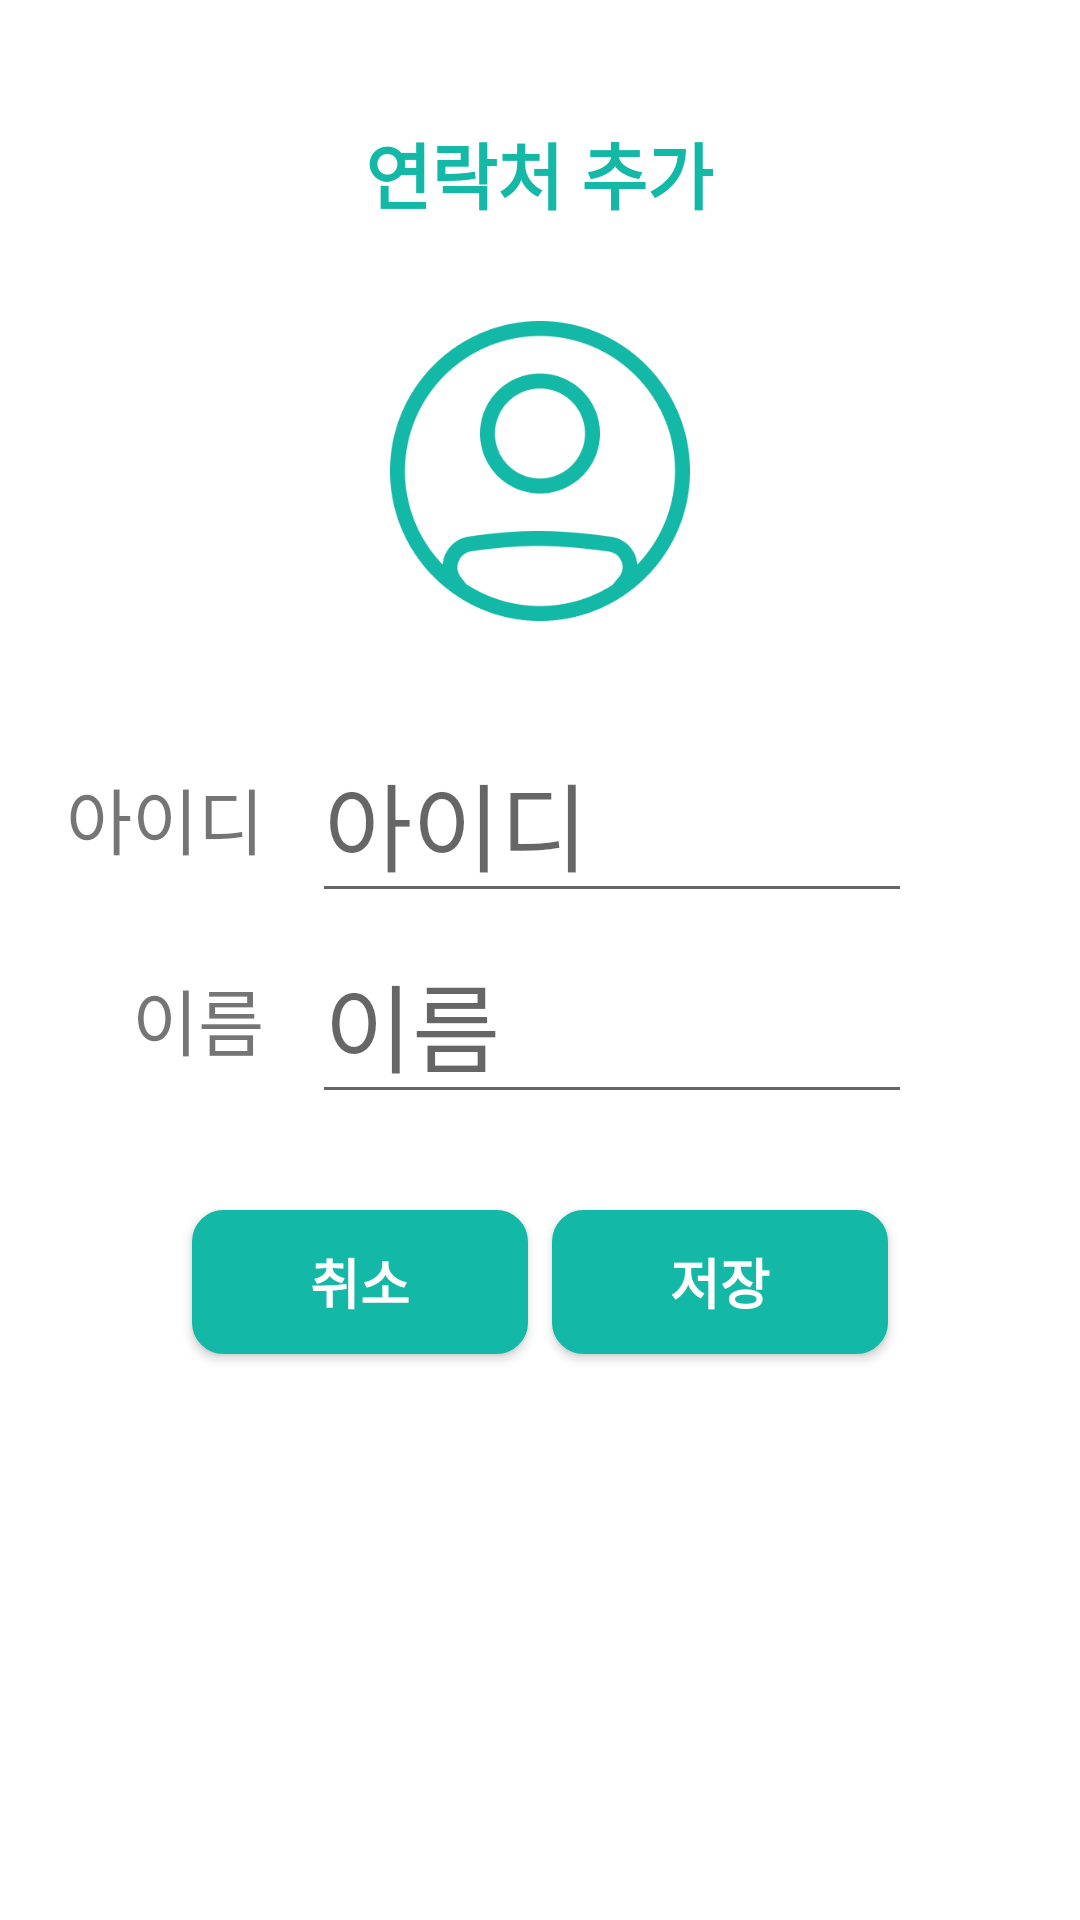

Icon click points for this 1080×1920 phone screenshot, format point (x, y):
profileimg: point (540, 471)
